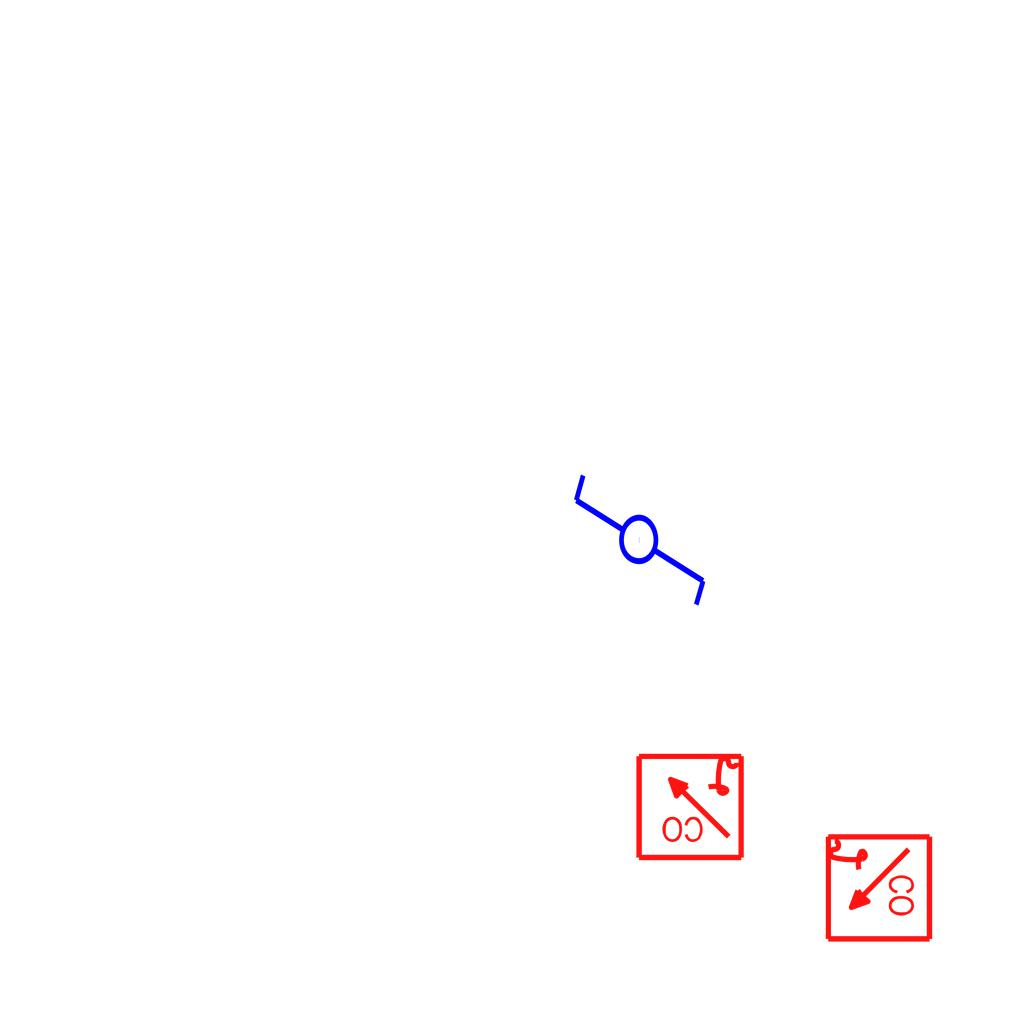ROA_Rauchmelder_optisch_mit_Signalgeber_(Sockelsirene): (633, 749, 746, 862), (821, 832, 934, 945)
Wechselschalter: (569, 453, 713, 610)
